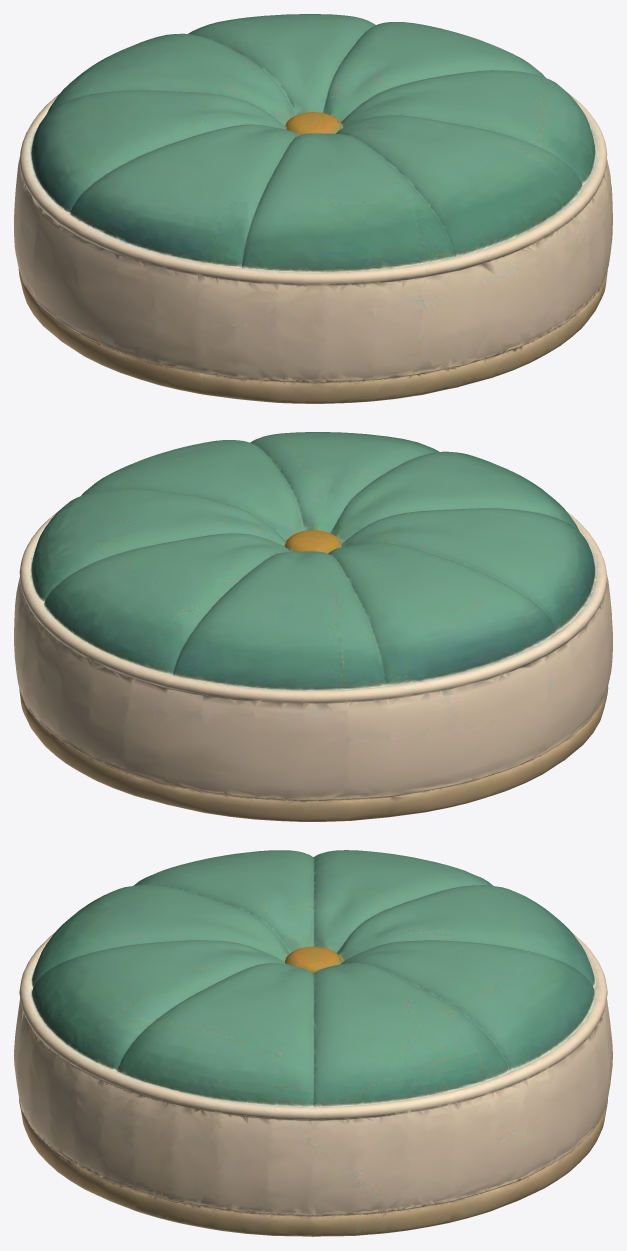
The model's file is majlis-cushion-variant-02-teal-radial-pouf.glb.
The picture shows the model from 3 angles, top to bottom: view 1: azimuth 30°, elevation 25°; view 2: azimuth 150°, elevation 25°; view 3: azimuth 270°, elevation 25°; orthographic projection.
Parts seen in each view (by area): view 1: mesh_node; view 2: mesh_node; view 3: mesh_node.
Boxes of the visible parts, x1,y1,x2,y2 form: mesh_node: [14, 14, 612, 403]; mesh_node: [14, 432, 612, 821]; mesh_node: [14, 850, 612, 1236].
Size of the model in its own units: 1.9 by 0.6384 by 1.9.
Materials: 1 (1 with a texture image).
